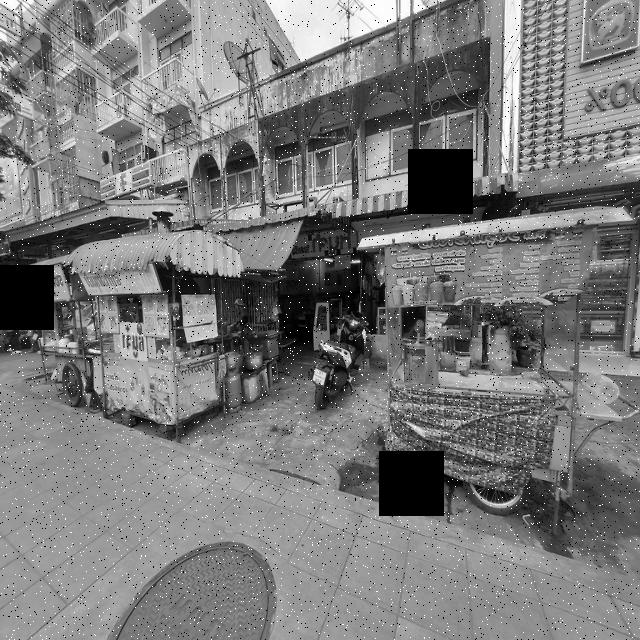food-booth: (358, 207, 634, 537), (14, 221, 279, 433)
